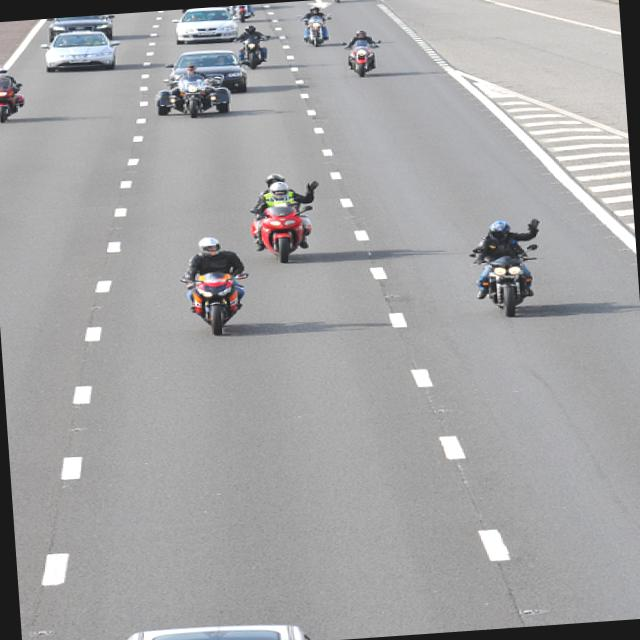Vehicle: (248, 199, 317, 267), (484, 242, 543, 318), (34, 26, 124, 74), (153, 70, 235, 122), (163, 46, 248, 96), (187, 271, 239, 340), (112, 622, 306, 640), (172, 6, 238, 46), (42, 13, 116, 42), (340, 38, 384, 78), (228, 32, 272, 72), (296, 12, 335, 48), (0, 72, 25, 122), (227, 4, 257, 22), (327, 0, 350, 4)
